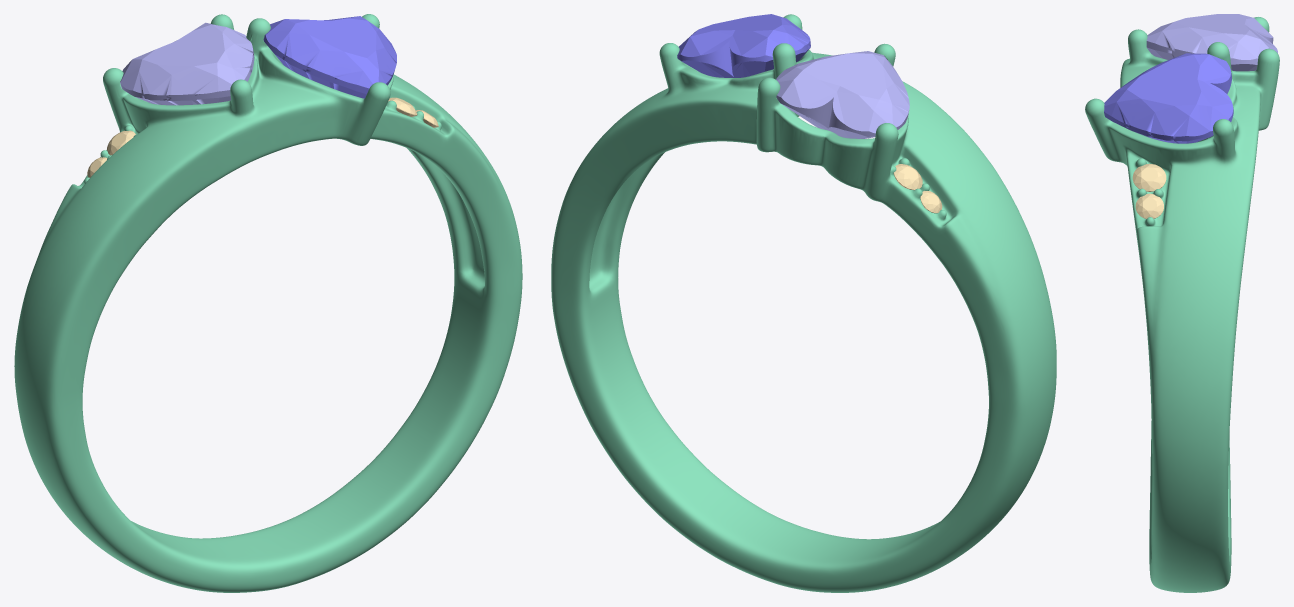
3 views of the same model, side by side, from view 1: azimuth 30°, elevation 25°; view 2: azimuth 150°, elevation 25°; view 3: azimuth 270°, elevation 25° (orthographic). The views are drawn at different scales.
Visible parts, largest first — view 1: Metal02, Diamond_2, Diamond_1; view 2: Metal02, Diamond_2, Diamond_1; view 3: Metal02, Diamond_1, Diamond_2, Diamond_Round.002, Diamond_Round.003.
Boxes of the visible parts, box(x1,y1,x2,y2) form: Metal02: box(14, 14, 522, 592); Diamond_2: box(120, 22, 254, 105); Diamond_1: box(263, 16, 396, 98); Metal02: box(551, 14, 1056, 592); Diamond_2: box(776, 51, 909, 138); Diamond_1: box(677, 14, 810, 77); Metal02: box(1085, 17, 1279, 592); Diamond_1: box(1104, 53, 1233, 143); Diamond_2: box(1146, 14, 1277, 71); Diamond_Round.002: box(1132, 163, 1166, 191); Diamond_Round.003: box(1135, 193, 1163, 218).
Size of what is drawn, in the model's own units: 20.77 by 22.45 by 7.51.
